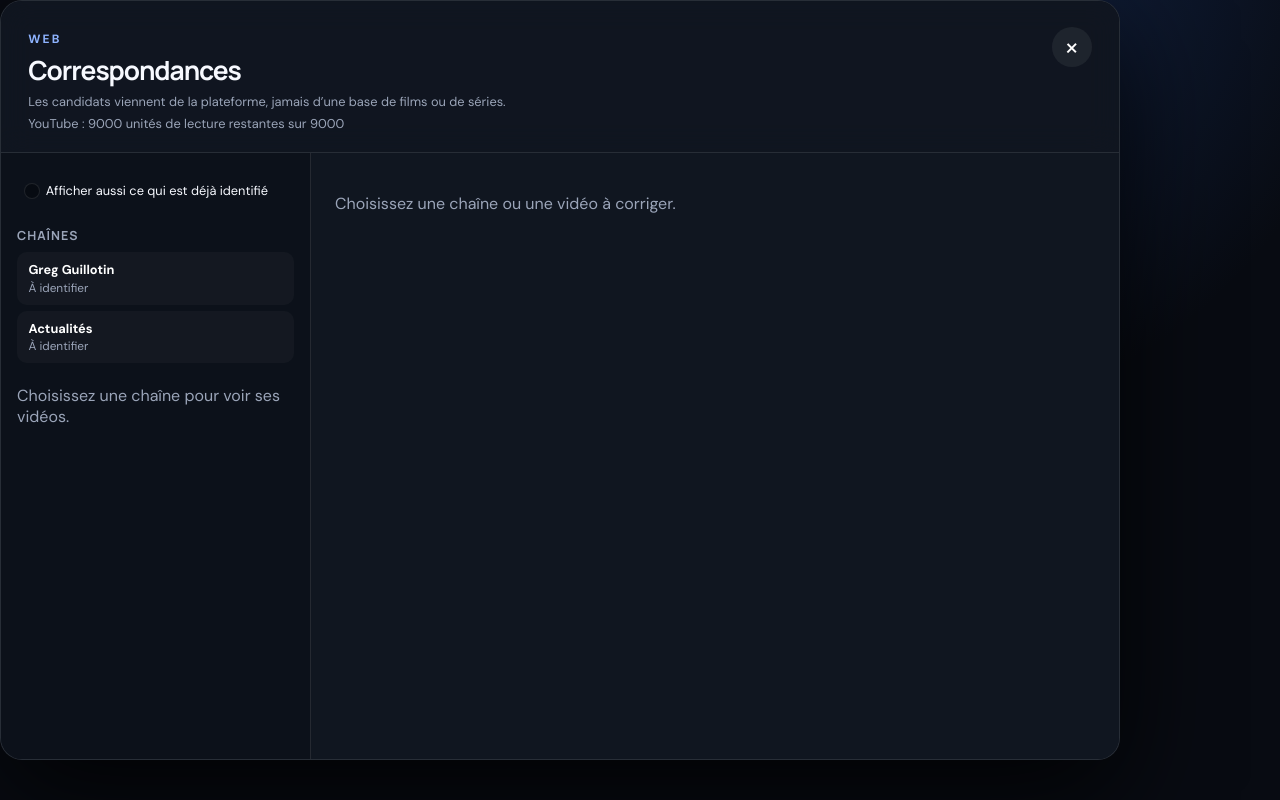
les vidéos suivent la chaîne choisie › suit la chaîne quand on passe à l'autre
The image size is (1280, 800).
Click the text "Greg Guillotin": (71, 270) [28,261,114,278]
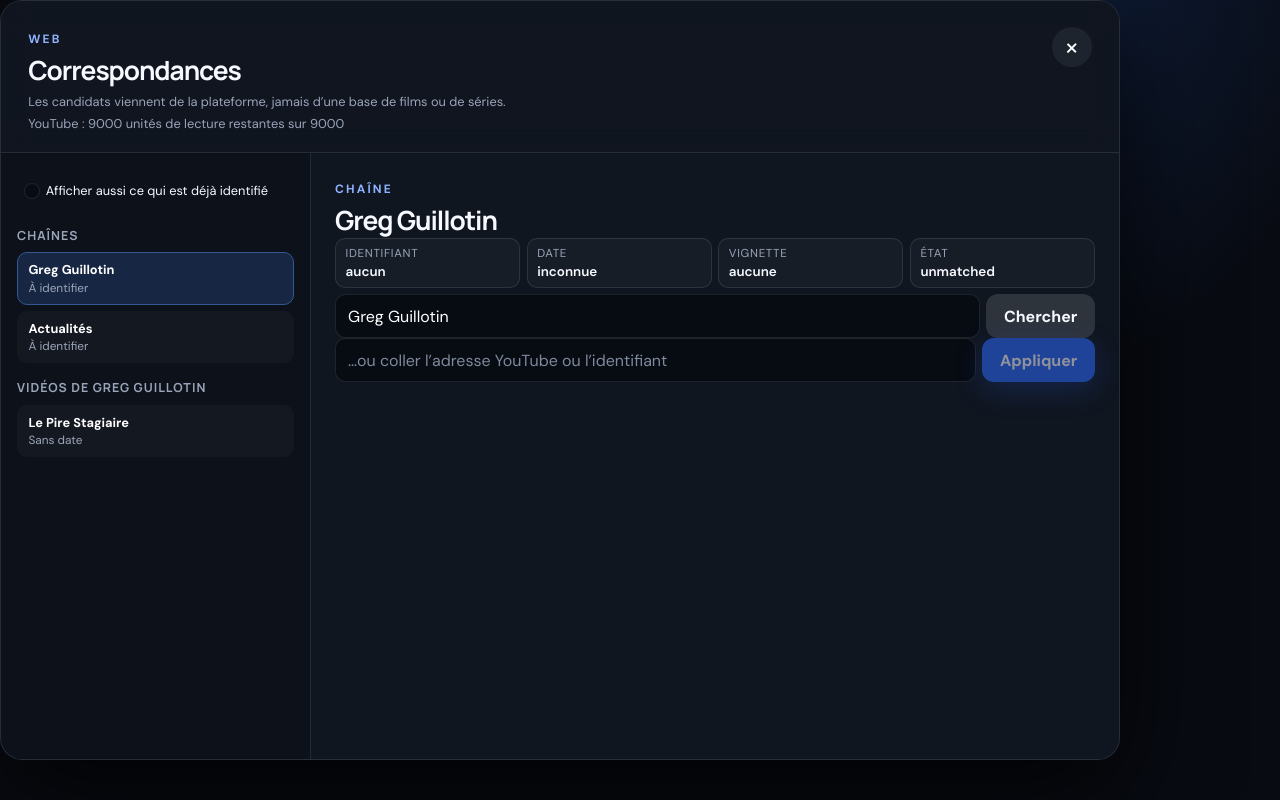
expect the text "Le Pire Stagiaire" is shown: met, box [28,414,129,431]
Click the text "Actualités": (60, 328) [28,320,93,337]
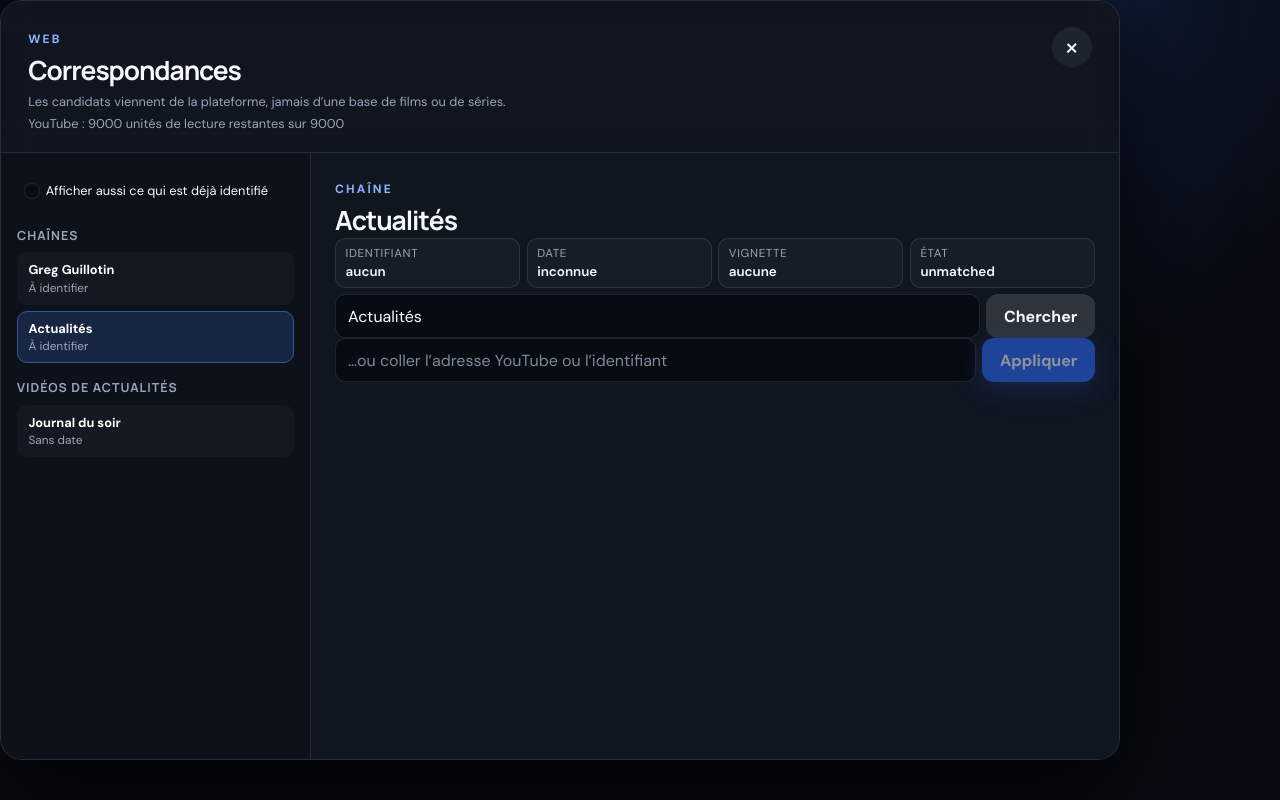
expect the text "Journal du soir" is shown: met, box [28,414,121,431]
expect the button "Le Pire Stagiaire" is gone: met
